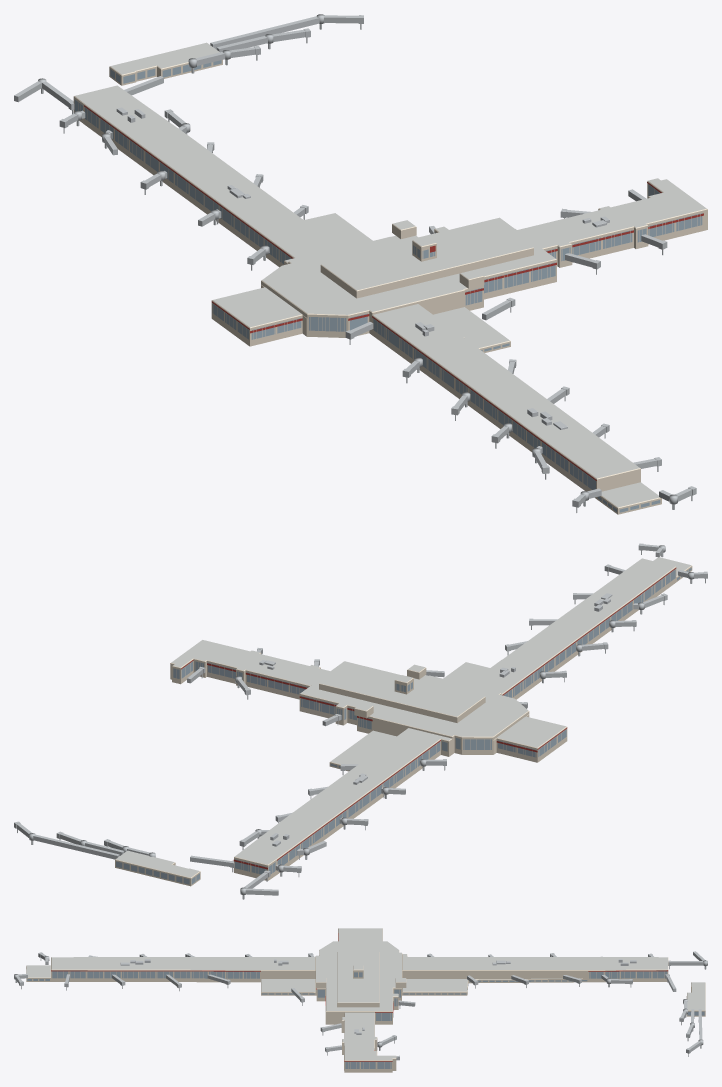
File: atl-hartsfield-jackson-concourse-e.detail.glb
3 views of the same model, one above another, from view 1: azimuth 30°, elevation 25°; view 2: azimuth 150°, elevation 25°; view 3: azimuth 270°, elevation 25° (orthographic). The views are drawn at different scales.
Parts seen in each view (by area): view 1: Hartsfield-Jackson Concourse E; view 2: Hartsfield-Jackson Concourse E; view 3: Hartsfield-Jackson Concourse E.
Part boxes in pixels (x1,y1,x2,y2): Hartsfield-Jackson Concourse E: (14,14,707,514); Hartsfield-Jackson Concourse E: (14,543,707,899); Hartsfield-Jackson Concourse E: (14,928,707,1072).
Bounding box in the file's own units: 355 × 33.5 × 782.
